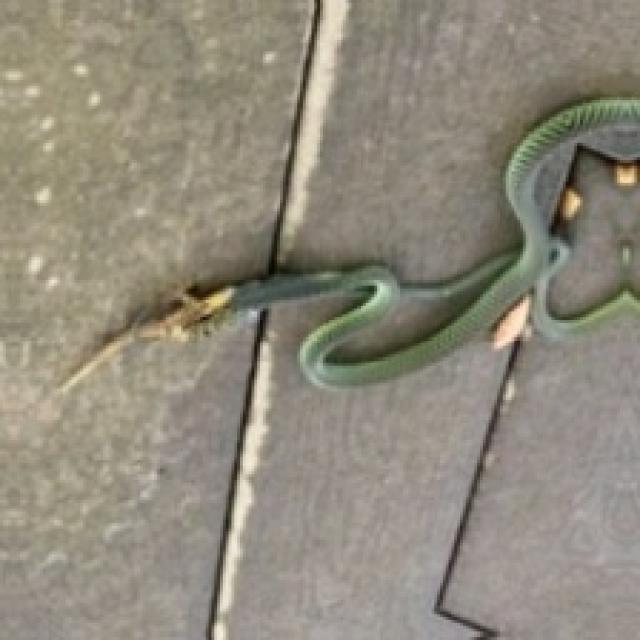paradise tree snake: (231, 97, 637, 383), (331, 286, 477, 360)
